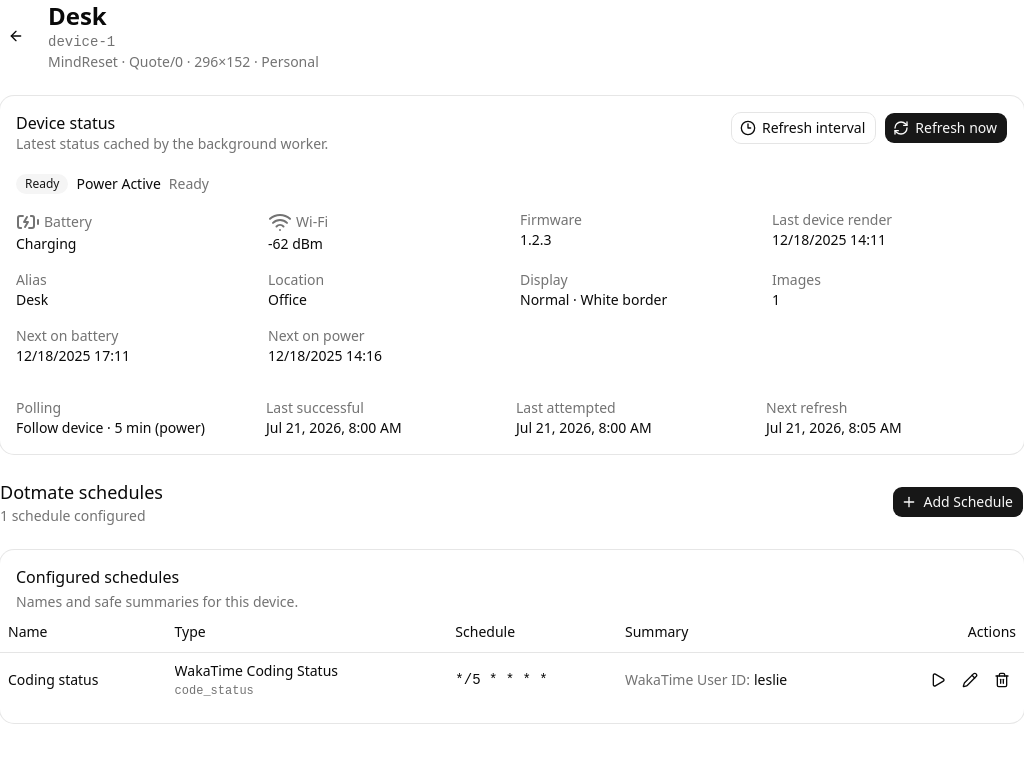
Scenario: DeviceDetailPage › renders cached device status and its per-device polling policy
Expected: the text "Charging" is shown, [16,234,76,253]
Expected: the text "-62 dBm" is shown, [268,234,323,253]
Click the button "Refresh interval" at (804, 128), box [731,112,876,144]
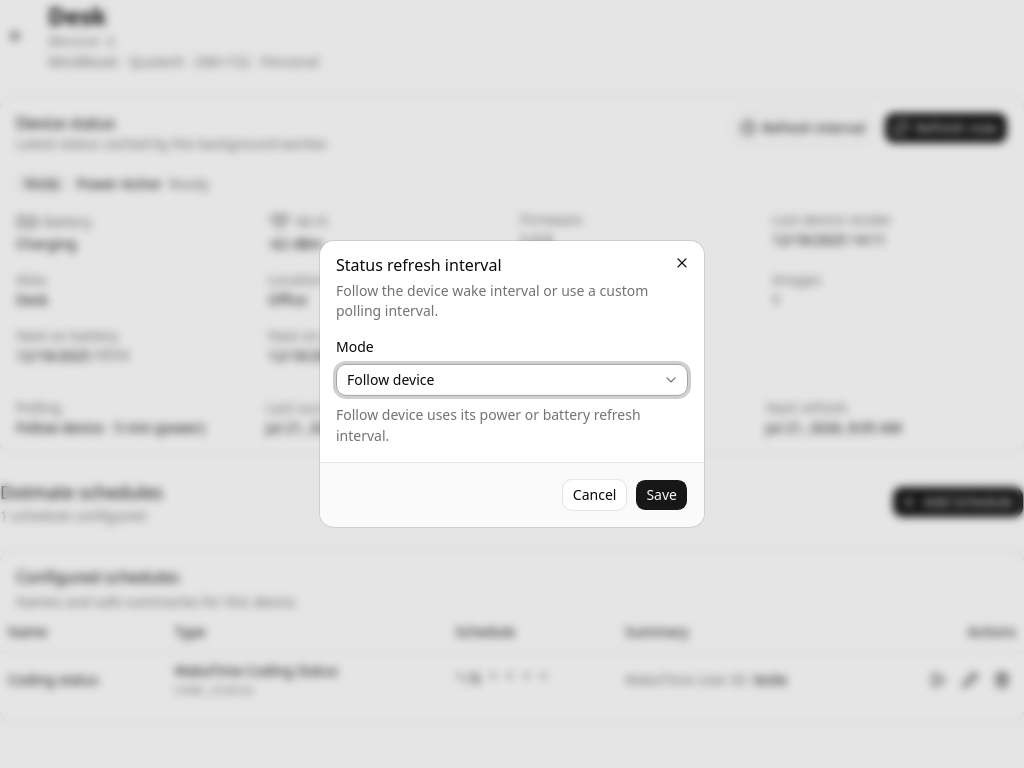
Now the dialog "Status refresh interval" is shown, box [320,241,704,527]
Now the dropdown named "Mode" reads "Follow device", box [336,364,688,396]
